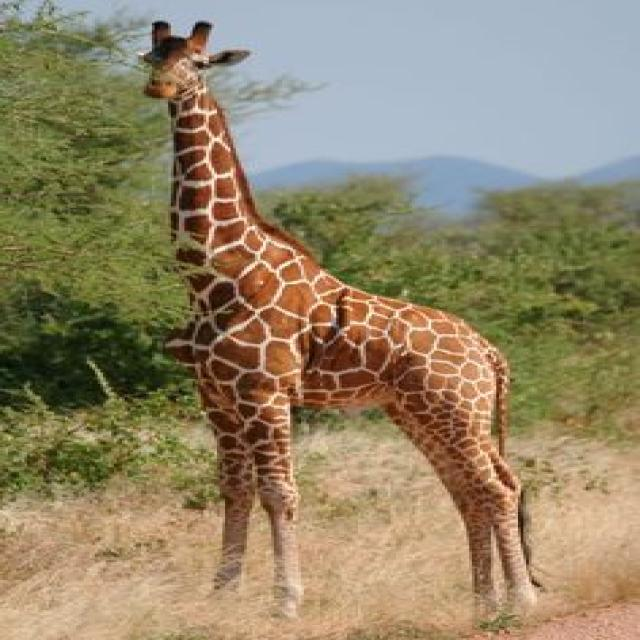Herbivorous: (138, 22, 540, 632)
